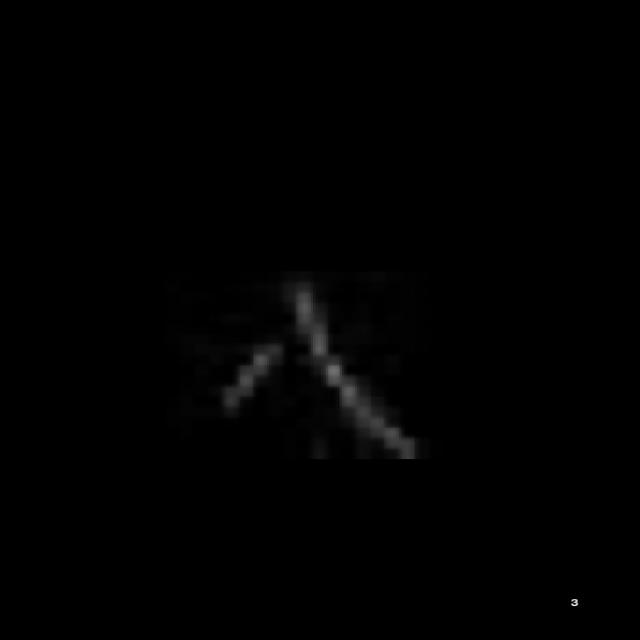8 -eight-: (199, 287, 434, 468)
